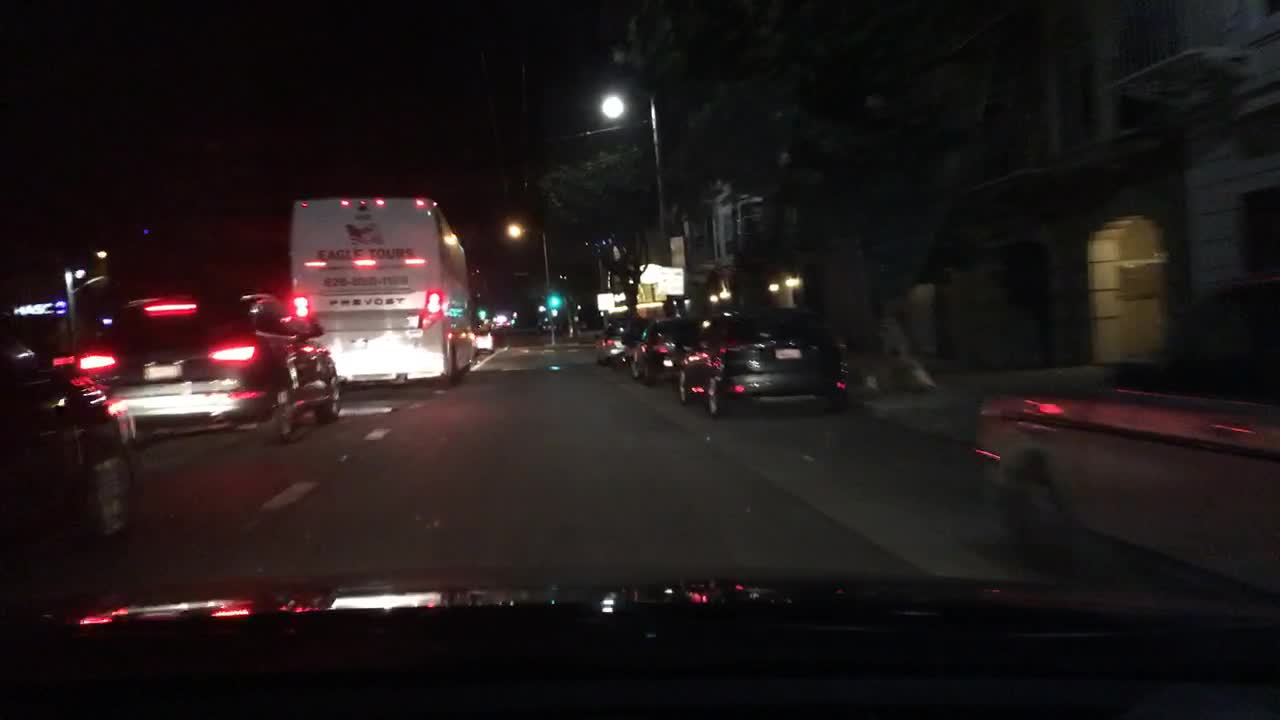bus: (283, 193, 476, 396)
car: (971, 346, 1279, 609), (78, 288, 342, 454), (0, 329, 131, 562), (676, 306, 859, 419), (629, 317, 715, 386), (598, 317, 657, 362), (472, 322, 494, 351), (494, 312, 518, 331), (539, 315, 562, 333)
person: (664, 293, 674, 320), (676, 294, 687, 318)
traffic sign: (669, 238, 686, 275)
